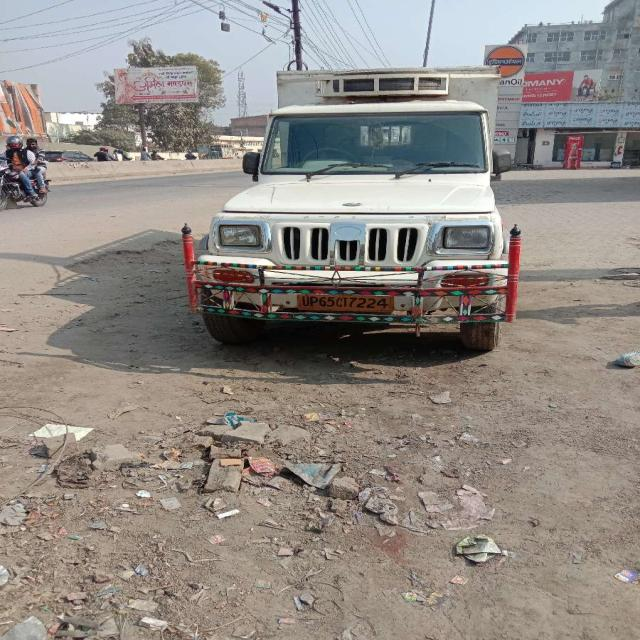light_vehicle: (186, 70, 519, 323)
